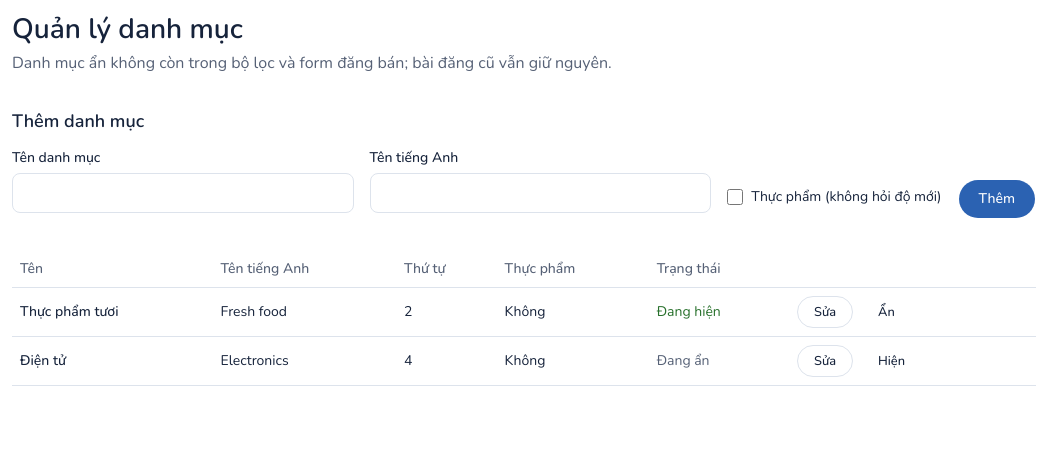
Scenario: CategoryAdmin › rejects an empty sort order
Check: the table is shown, box left=12, top=251, right=1036, bottom=386
Click the button with aria-label "Sửa Điện tử". click: x=825, y=361
box: left=797, top=345, right=853, bottom=377
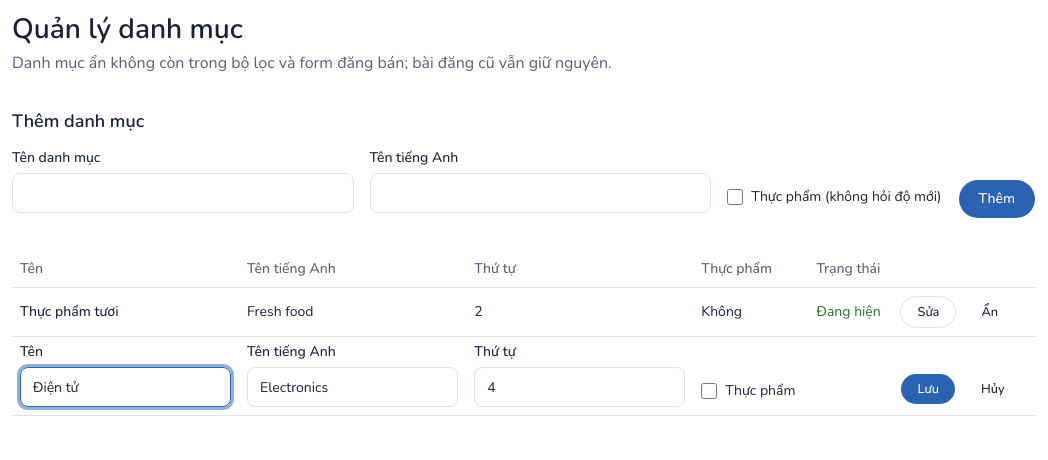
Clear the number field labelled "Thứ tự". click: x=580, y=387
box: left=474, top=367, right=685, bottom=407
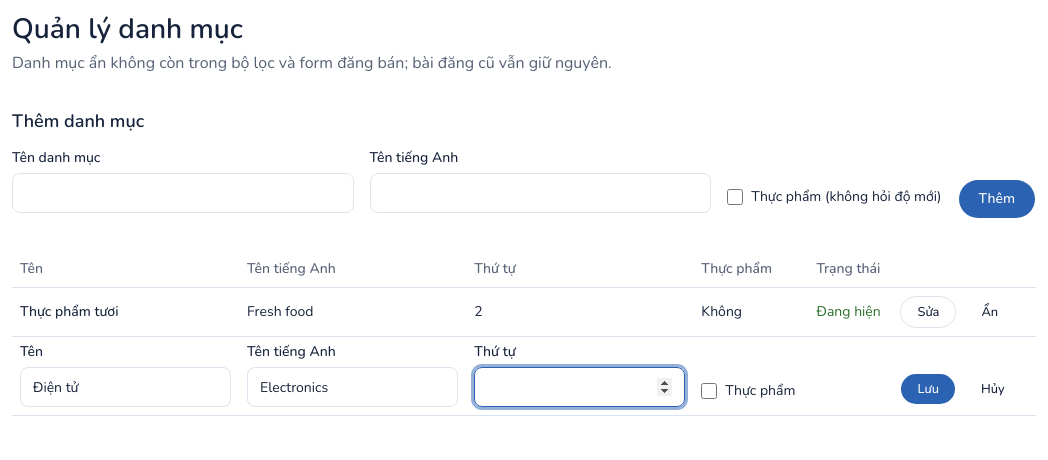
Click the button "Lưu". click: x=928, y=389
box: left=900, top=373, right=956, bottom=405
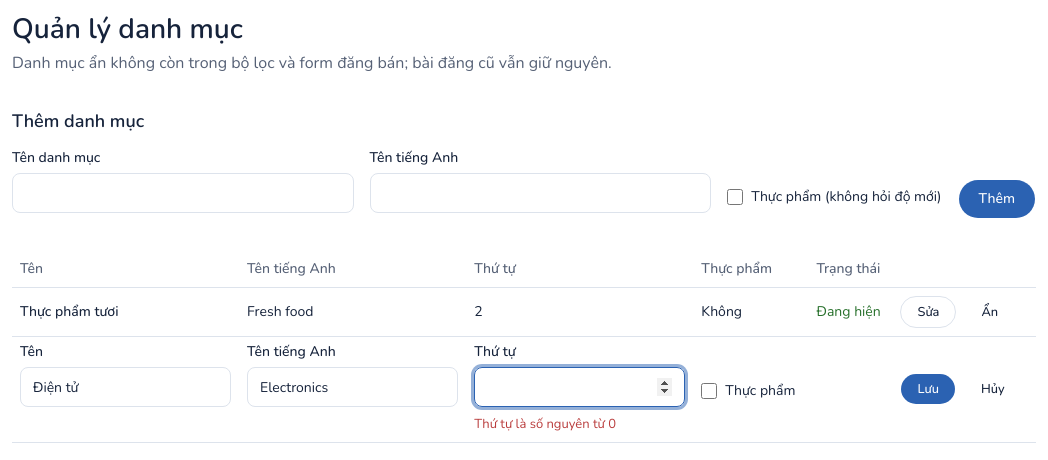
Check: the text "Thứ tự là số nguyên từ 0" is shown, box left=474, top=415, right=616, bottom=433
